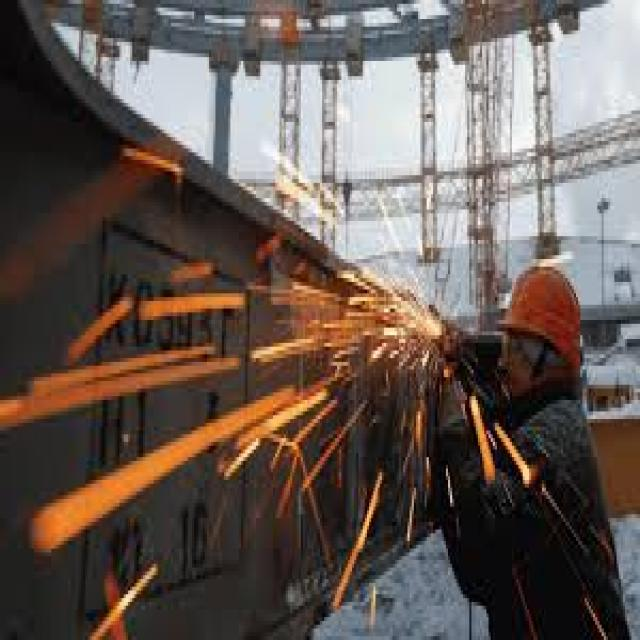Safety-Helmet: (484, 240, 600, 381)
